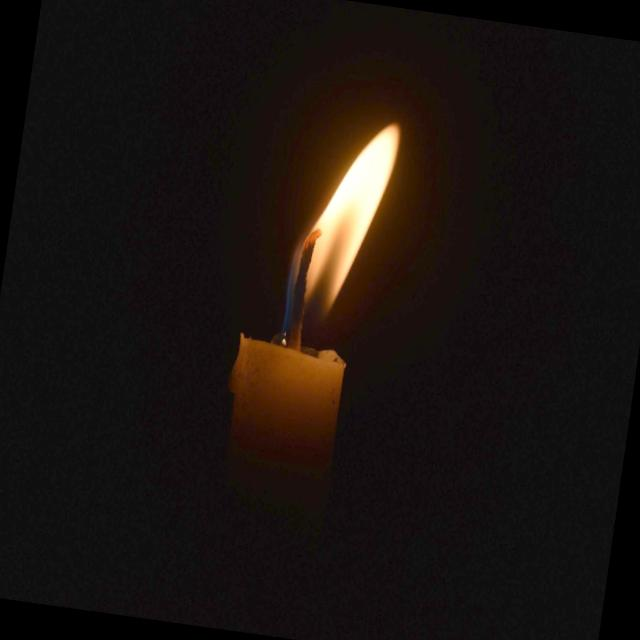Fire_Save: (216, 102, 404, 480), (278, 109, 403, 353)
